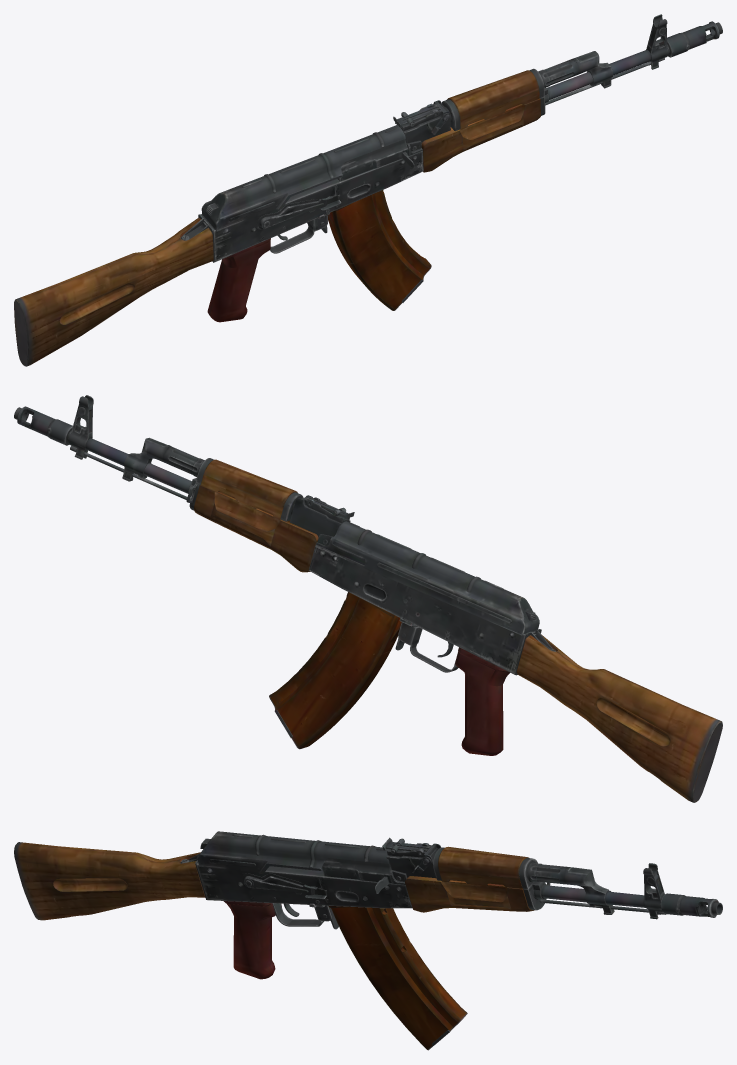
3 renders of one model, top to bottom at view 1: azimuth 30°, elevation 25°; view 2: azimuth 150°, elevation 25°; view 3: azimuth 330°, elevation 25°, orthographic. The views are drawn at different scales.
Visible parts, largest first — view 1: Object002_low_03 - Default_0, Box003_low_03 - Default_0, Object039_low_01 - Default_0, Box001_low_01 - Default_0, Object005_low_03 - Default_0, Object007_low_01 - Default_0, Object006_low_03 - Default_0, Object013_low_01 - Default_0, boltcarrier_low_01 - Default_0, Object009_low_01 - Default_0, Object024_low_01 - Default_0, Object026_low_01 - Default_0 (+4 smaller); view 2: Object002_low_03 - Default_0, Box003_low_03 - Default_0, Box001_low_01 - Default_0, Object039_low_01 - Default_0, Object005_low_03 - Default_0, Object007_low_01 - Default_0, Object006_low_03 - Default_0, Object013_low_01 - Default_0, Object026_low_01 - Default_0, Object024_low_01 - Default_0, Object018_low_01 - Default_0, Object016_low_01 - Default_0 (+2 smaller); view 3: Object002_low_03 - Default_0, Box003_low_03 - Default_0, Box001_low_01 - Default_0, Object039_low_01 - Default_0, Object005_low_03 - Default_0, Object007_low_01 - Default_0, Object006_low_03 - Default_0, boltcarrier_low_01 - Default_0, Object013_low_01 - Default_0, Object009_low_01 - Default_0, Object024_low_01 - Default_0, Object026_low_01 - Default_0 (+5 smaller).
Part boxes in pixels (x1=…): Object002_low_03 - Default_0: x1=14, y1=217, x2=213, y2=366; Box003_low_03 - Default_0: x1=327, y1=190, x2=431, y2=310; Object039_low_01 - Default_0: x1=201, y1=125, x2=405, y2=231; Box001_low_01 - Default_0: x1=201, y1=151, x2=423, y2=261; Object005_low_03 - Default_0: x1=421, y1=98, x2=540, y2=172; Object007_low_01 - Default_0: x1=207, y1=238, x2=270, y2=322; Object006_low_03 - Default_0: x1=447, y1=70, x2=539, y2=129; Object013_low_01 - Default_0: x1=609, y1=14, x2=668, y2=75; boltcarrier_low_01 - Default_0: x1=337, y1=139, x2=414, y2=181; Object009_low_01 - Default_0: x1=256, y1=195, x2=341, y2=229; Object024_low_01 - Default_0: x1=667, y1=21, x2=722, y2=57; Object026_low_01 - Default_0: x1=395, y1=100, x2=450, y2=143; Object002_low_03 - Default_0: x1=516, y1=634, x2=722, y2=802; Box003_low_03 - Default_0: x1=269, y1=592, x2=401, y2=749; Box001_low_01 - Default_0: x1=308, y1=544, x2=535, y2=674; Object039_low_01 - Default_0: x1=331, y1=521, x2=539, y2=635; Object005_low_03 - Default_0: x1=194, y1=485, x2=318, y2=572; Object007_low_01 - Default_0: x1=455, y1=647, x2=509, y2=755; Object006_low_03 - Default_0: x1=201, y1=459, x2=297, y2=519; Object013_low_01 - Default_0: x1=68, y1=395, x2=128, y2=465; Object026_low_01 - Default_0: x1=290, y1=495, x2=350, y2=537; Object024_low_01 - Default_0: x1=14, y1=406, x2=72, y2=445; Object018_low_01 - Default_0: x1=122, y1=437, x2=170, y2=481; Object016_low_01 - Default_0: x1=144, y1=463, x2=199, y2=510; Object002_low_03 - Default_0: x1=14, y1=842, x2=205, y2=920; Box003_low_03 - Default_0: x1=328, y1=906, x2=467, y2=1050; Box001_low_01 - Default_0: x1=196, y1=863, x2=412, y2=908; Object039_low_01 - Default_0: x1=197, y1=831, x2=389, y2=873; Object005_low_03 - Default_0: x1=405, y1=876, x2=534, y2=912; Object007_low_01 - Default_0: x1=223, y1=901, x2=281, y2=979; Object006_low_03 - Default_0: x1=438, y1=846, x2=528, y2=888; boltcarrier_low_01 - Default_0: x1=322, y1=858, x2=392, y2=893; Object013_low_01 - Default_0: x1=605, y1=863, x2=664, y2=919; Object009_low_01 - Default_0: x1=242, y1=873, x2=326, y2=899; Object024_low_01 - Default_0: x1=661, y1=893, x2=722, y2=917; Object026_low_01 - Default_0: x1=386, y1=843, x2=441, y2=878.
Size of the model in its own units: 4.58 by 1.63 by 0.5262.
2 materials, 2 textured.
